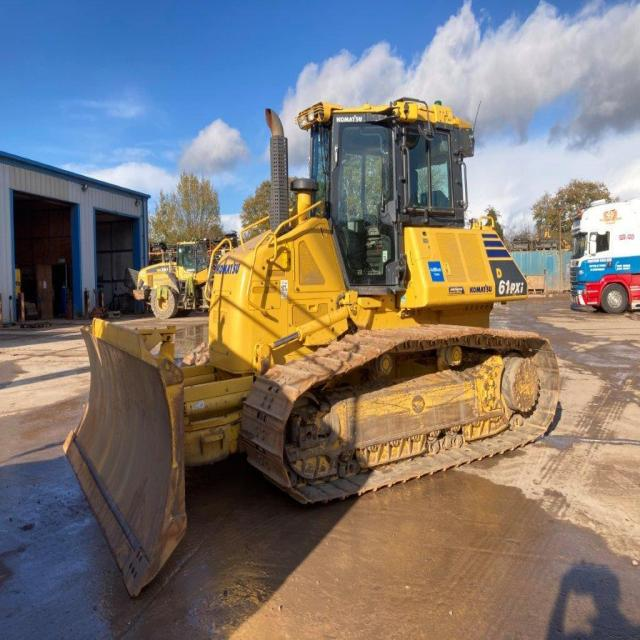Bulldozer: (57, 81, 568, 599)
